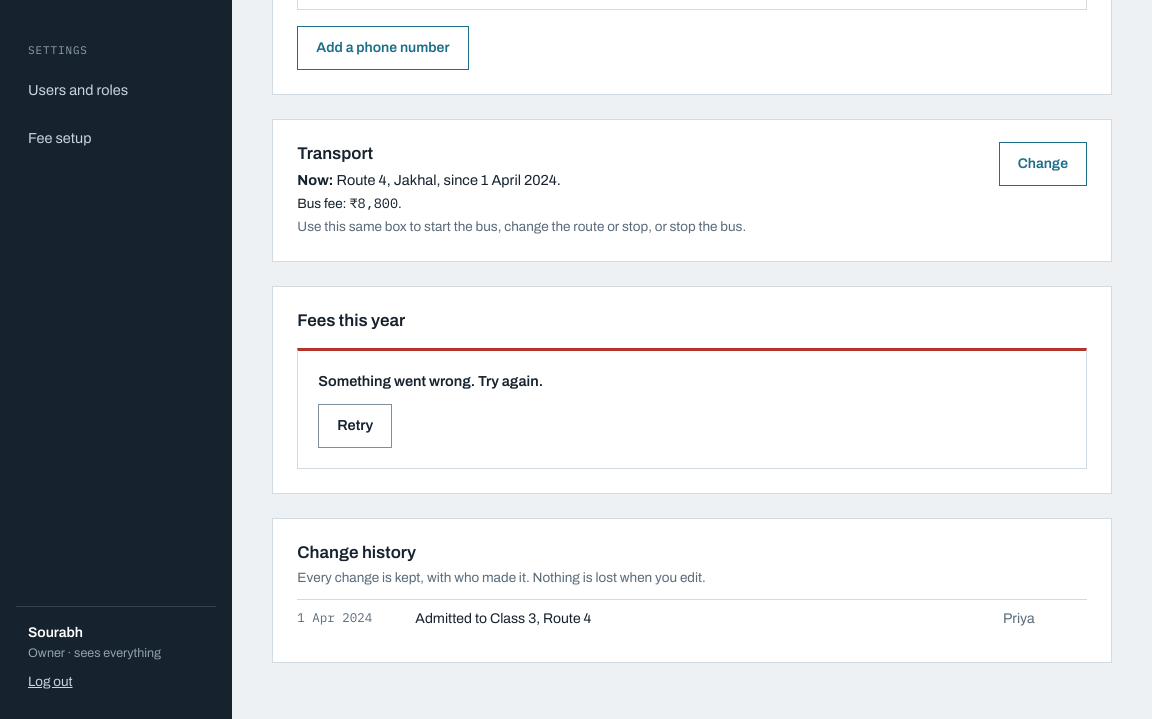
Test case: One student: Fees this year › shows an error with Retry, and the rest of the page still works
(page scrolled)
Expected: the text "Something went wrong. Try again." is shown, 318,371 -> 543,392
Click the button "Retry": (355, 426) 318,404 -> 392,448
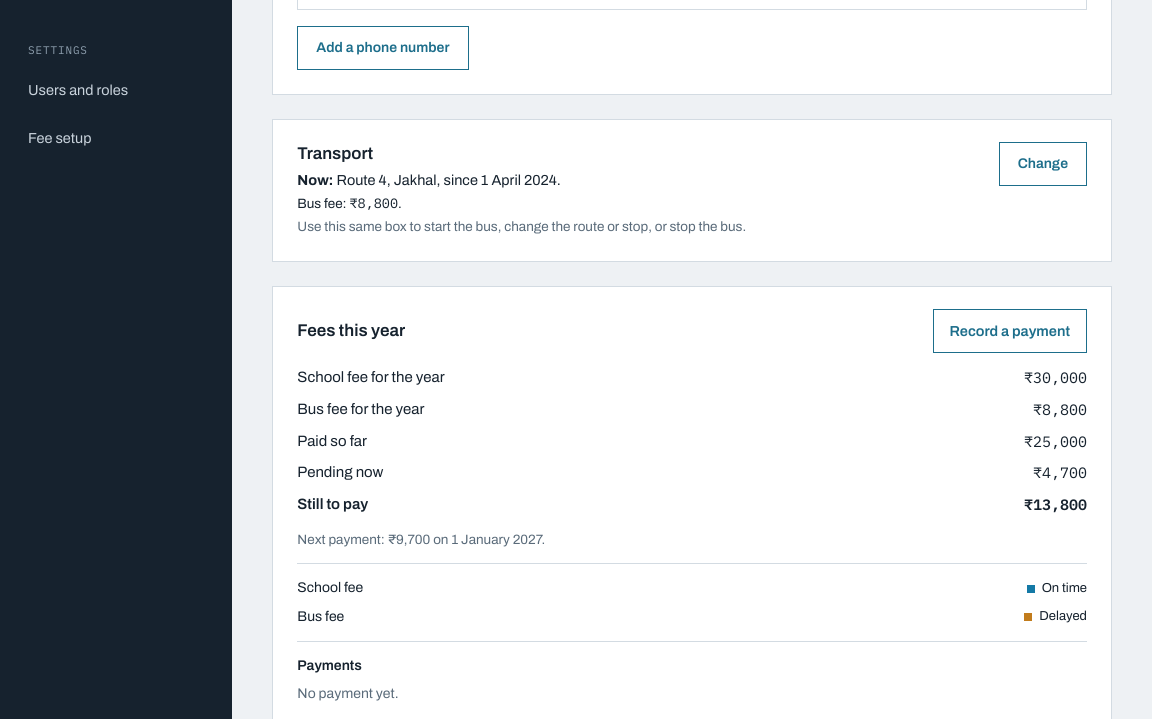
Expected: the text "Still to pay" is shown, 297,494 -> 368,516
